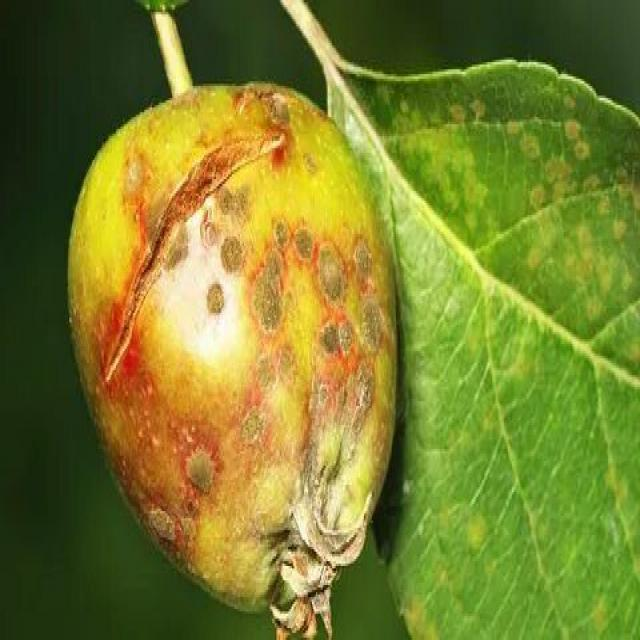Rotten: (58, 78, 407, 622)
